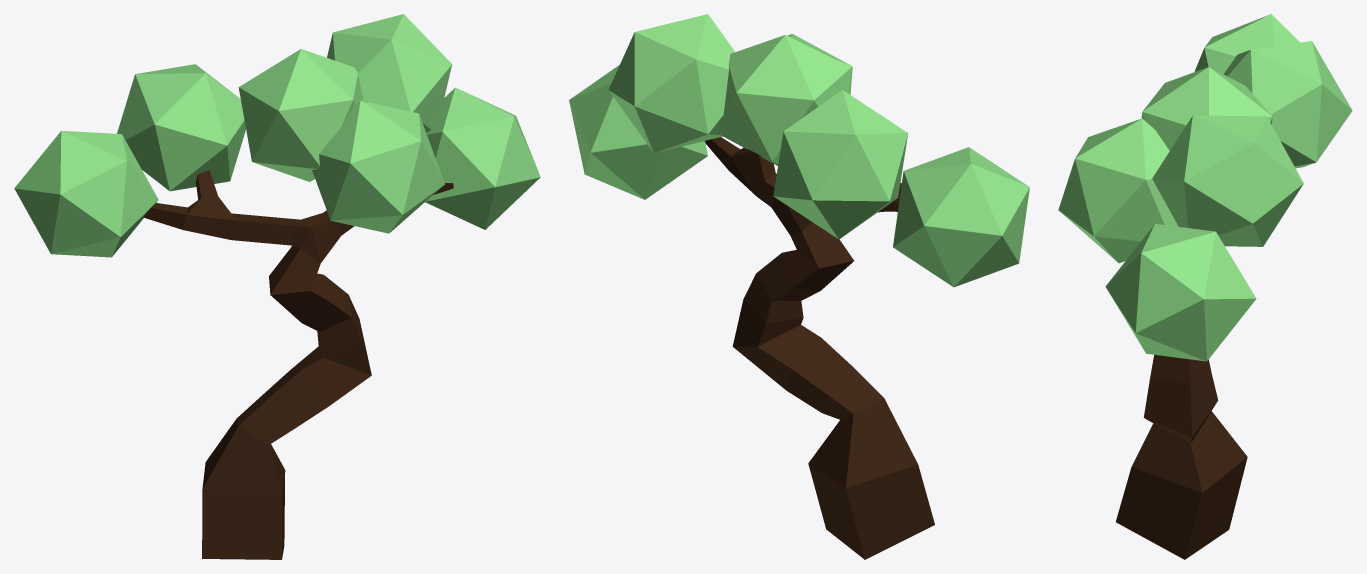
Rendered from Tree_One.fbx.
3 views of the same model, side by side, from view 1: azimuth 30°, elevation 25°; view 2: azimuth 150°, elevation 25°; view 3: azimuth 270°, elevation 25° (orthographic). The views are drawn at different scales.
Visible parts, largest first — view 1: Cube, Icosphere, Icosphere.005, Icosphere.001, Icosphere.004, Icosphere.003, Icosphere.002; view 2: Cube, Icosphere, Icosphere.001, Icosphere.002, Icosphere.004, Icosphere.003; view 3: Cube, Icosphere.002, Icosphere.003, Icosphere.005, Icosphere.001, Icosphere.004, Icosphere.
Part boxes in pixels (box(x1,y1,x2,y2)): Cube: box(143, 170, 453, 559); Icosphere: box(14, 130, 158, 257); Icosphere.005: box(312, 100, 444, 233); Icosphere.001: box(117, 64, 245, 191); Icosphere.004: box(238, 49, 363, 181); Icosphere.003: box(425, 87, 540, 229); Icosphere.002: box(327, 14, 452, 132); Cube: box(705, 137, 934, 559); Icosphere: box(893, 147, 1029, 287); Icosphere.001: box(773, 90, 908, 239); Icosphere.002: box(608, 14, 734, 153); Icosphere.004: box(718, 35, 851, 163); Icosphere.003: box(569, 65, 707, 199); Cube: box(1116, 355, 1247, 559); Icosphere.002: box(1152, 115, 1303, 246); Icosphere.003: box(1105, 224, 1256, 361); Icosphere.005: box(1058, 118, 1178, 263); Icosphere.001: box(1223, 41, 1352, 168); Icosphere.004: box(1141, 67, 1272, 150); Icosphere: box(1194, 14, 1299, 74).
Size of the model in its own units: 731 by 730 by 384.
